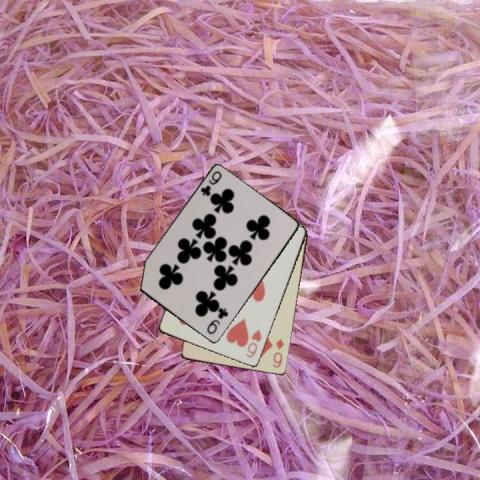6d: (270, 336, 286, 369)
6h: (242, 328, 262, 360)
9c: (204, 305, 230, 336), (198, 168, 224, 198)
